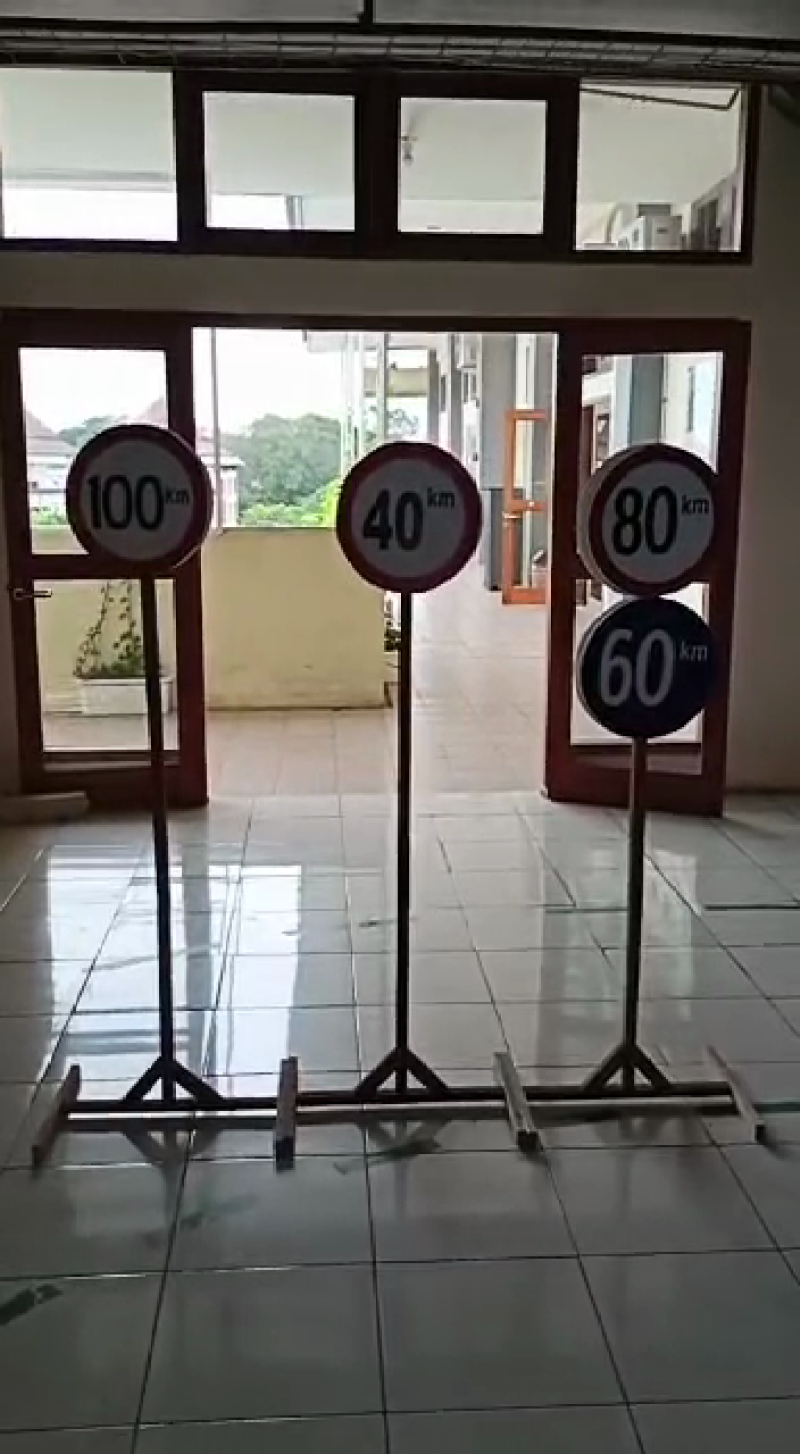batas maksimal 100kmperjam: (61, 422, 226, 577)
batas maksimal 40kmperjam: (333, 444, 479, 609)
batas maksimal 80kmperjam minimal 60kmperjam: (572, 424, 729, 759)
